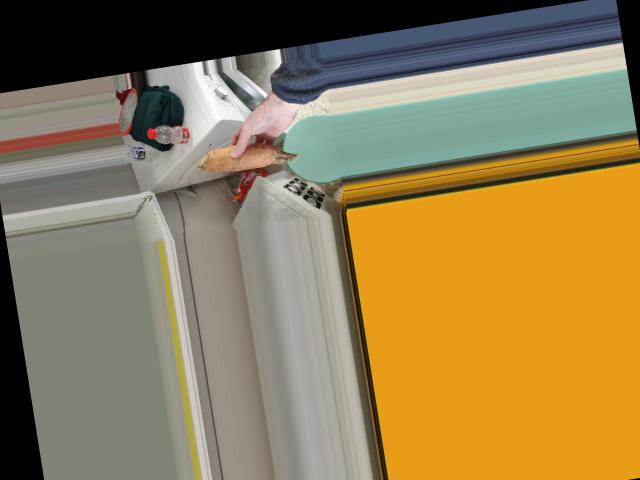sweet_potato: (202, 129, 301, 177)
